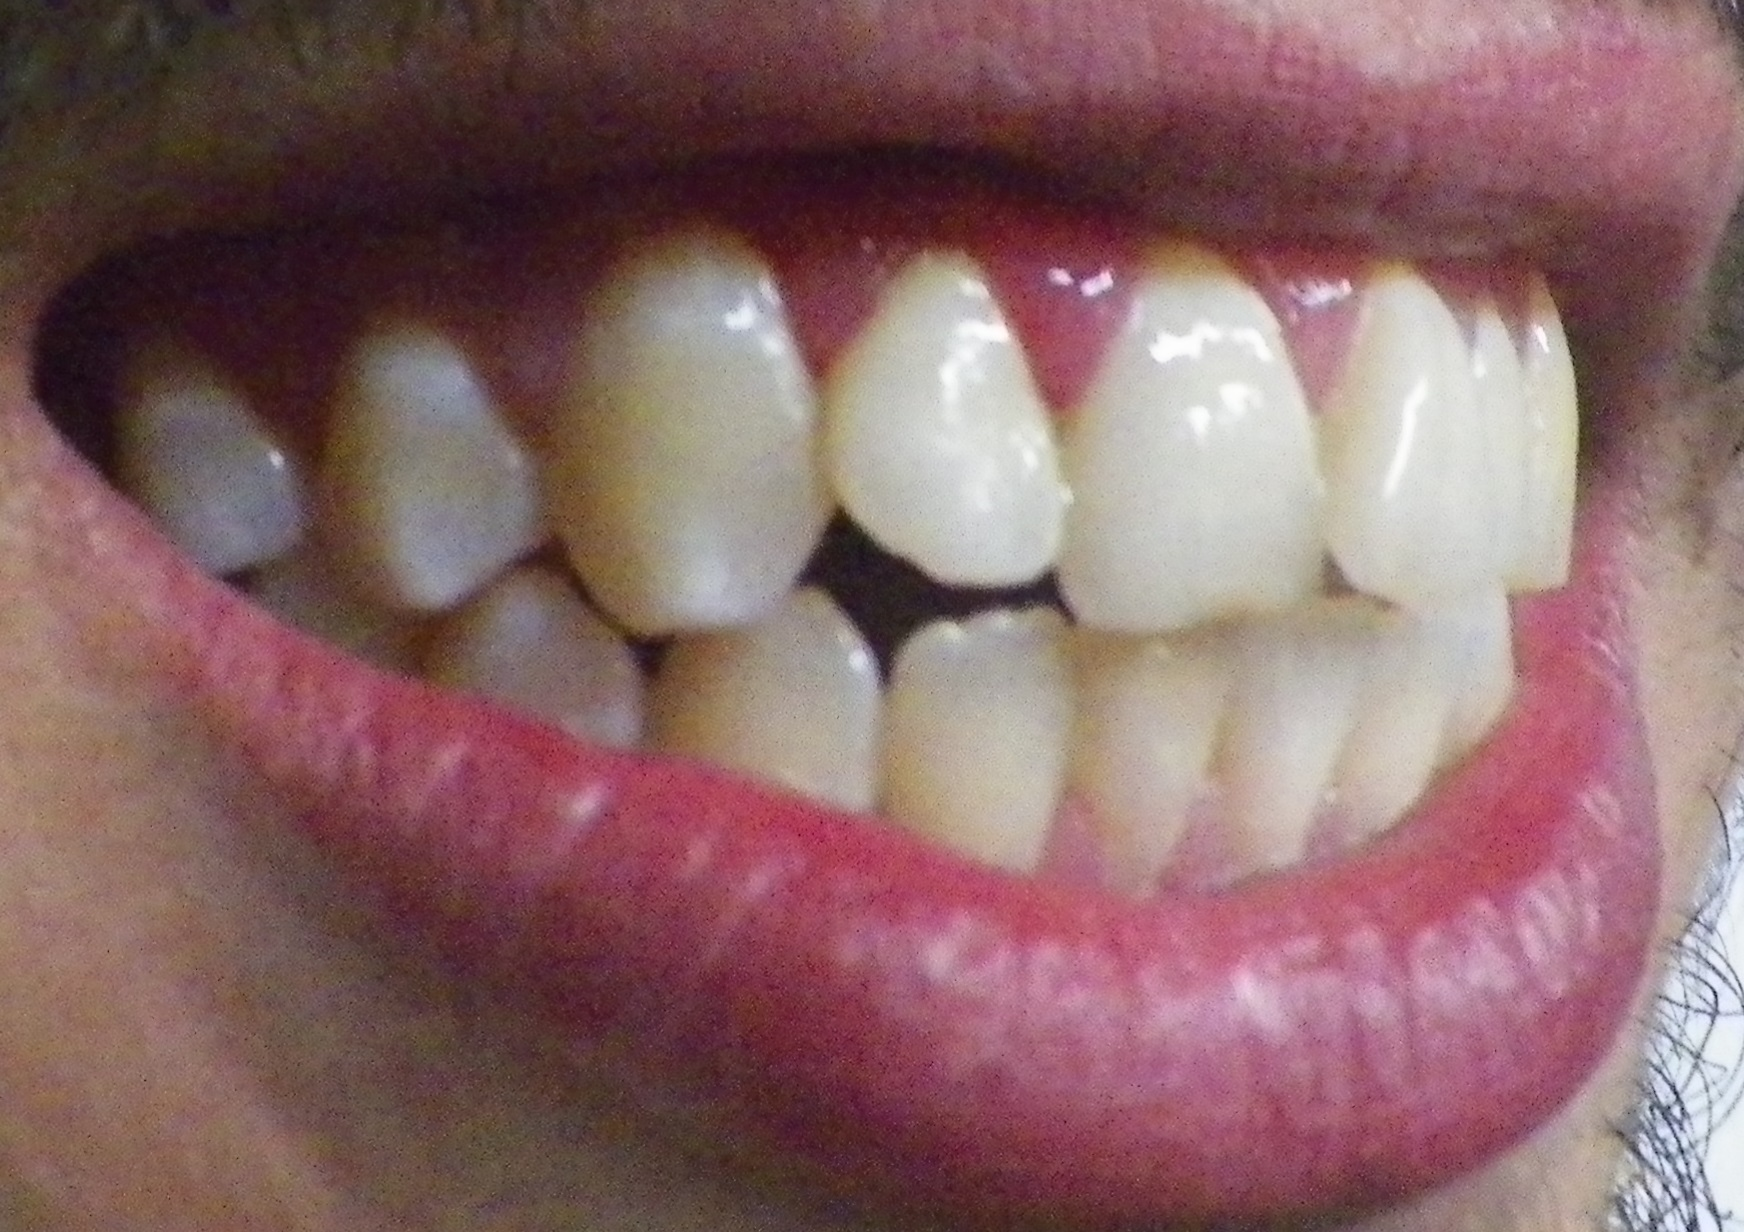boca: (92, 249, 1589, 895)
